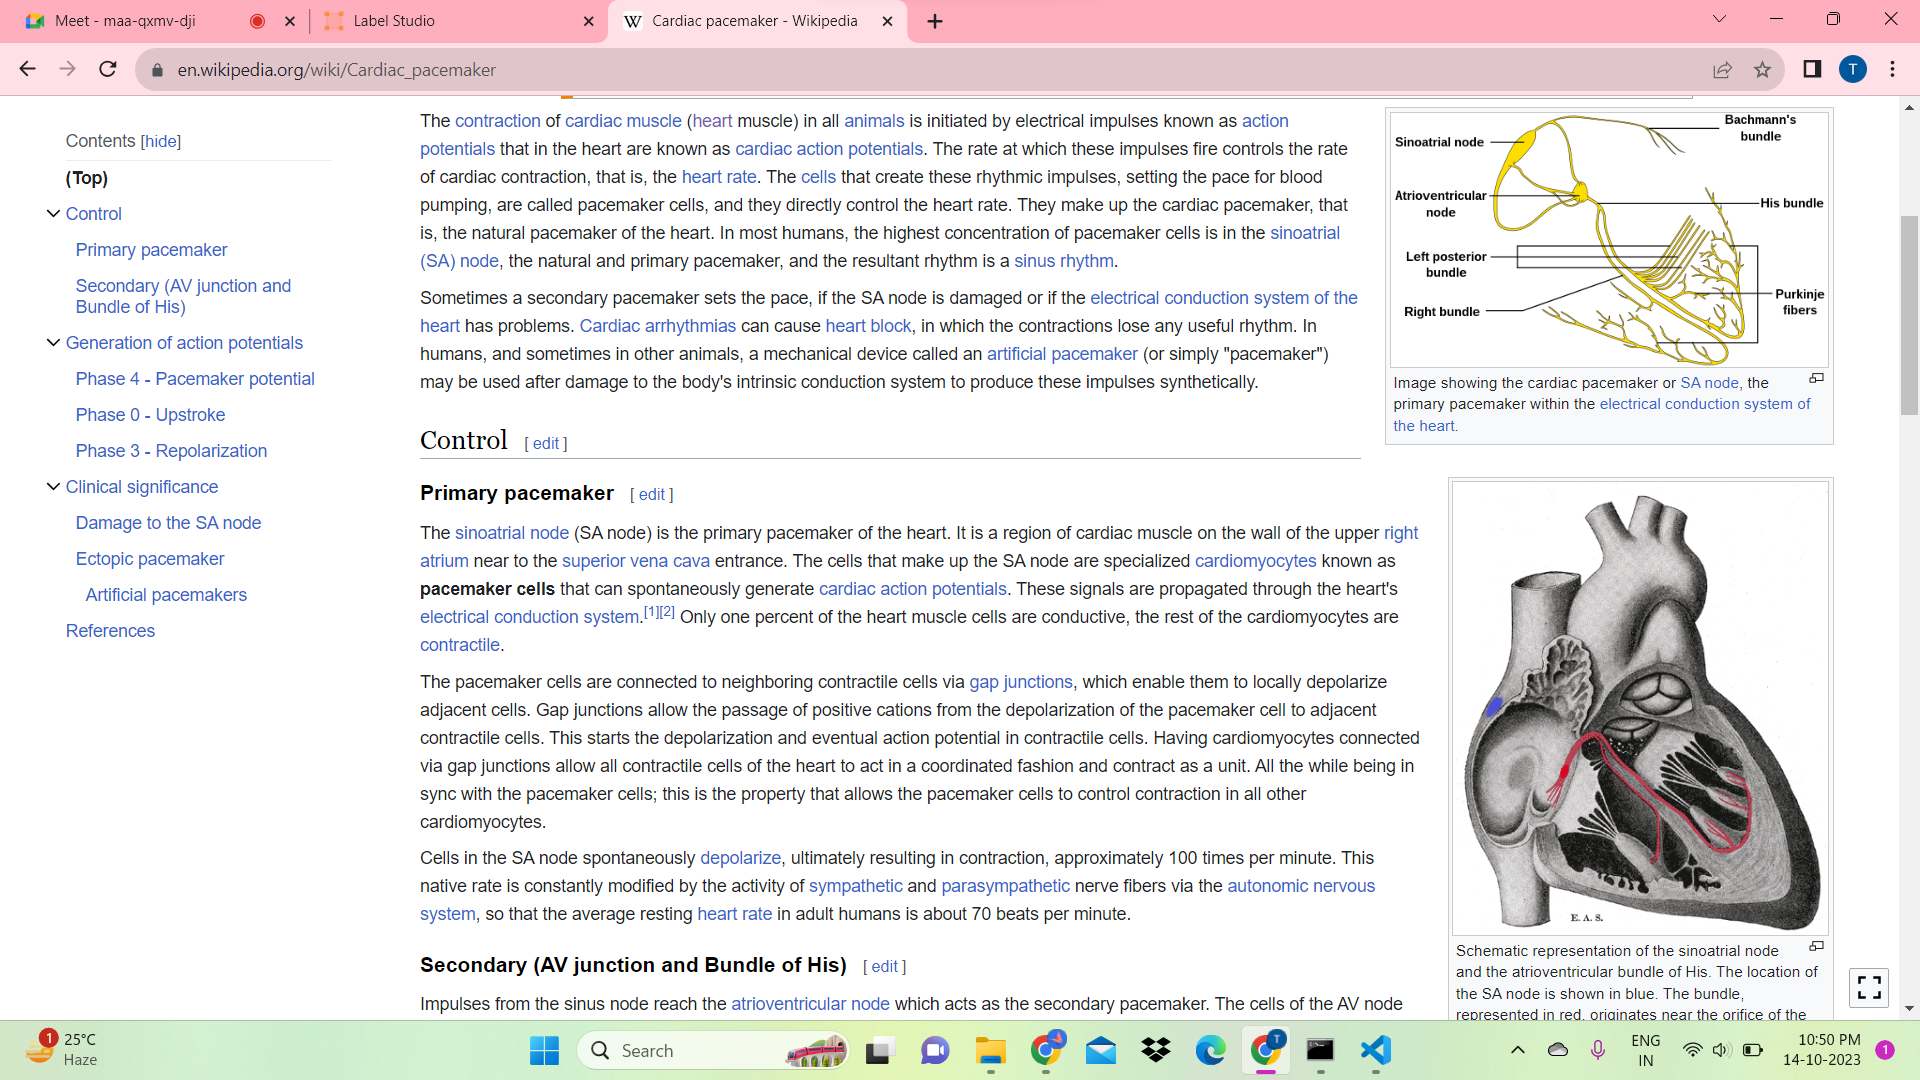Image: (1439, 475, 1886, 943), (1383, 108, 1842, 364)
Paragraph: (401, 667, 1435, 841), (404, 102, 1366, 272), (414, 522, 1435, 661), (406, 278, 1366, 400), (406, 844, 1407, 926), (1378, 371, 1858, 444), (1449, 947, 1838, 1025), (397, 945, 852, 981), (62, 261, 326, 322), (417, 477, 628, 518), (50, 607, 194, 661), (62, 393, 237, 431), (78, 574, 264, 608), (65, 471, 235, 505), (50, 123, 199, 157), (414, 418, 520, 458)
